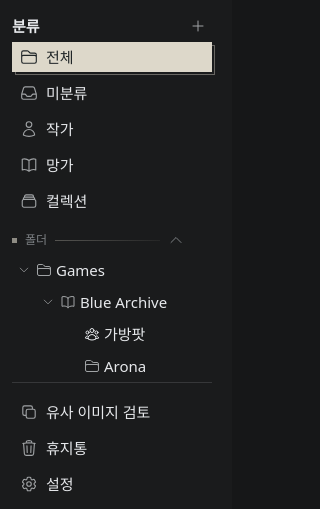
Test: ClassificationSidebar › character group rows › keeps the group row out of folder-only actions
This screenshot has width=320, height=509.
Right-click the list item "가방팟" at [115, 334], box [84,324,145,344]
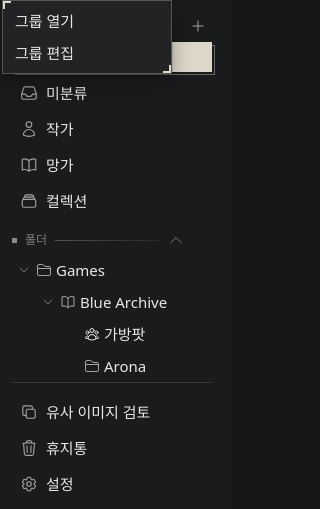
expect the menu items read "그룹 열기", "그룹 편집", in this order: met, box [7,5,167,37]; [7,37,167,69]
